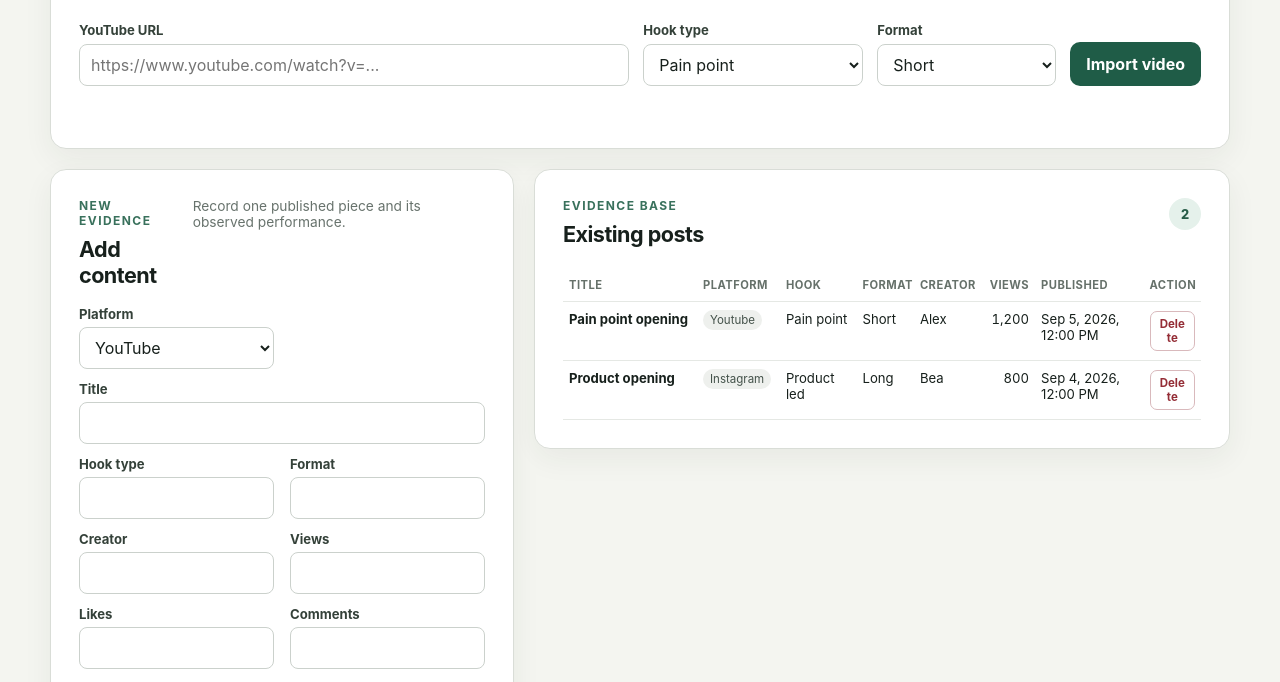
Test case: App › prevents duplicate deletion and refreshes the complete feedback loop
(page scrolled)
Click the button "Delete" in the row of "Pain point opening" at (1172, 331), box [1150,311,1195,351]
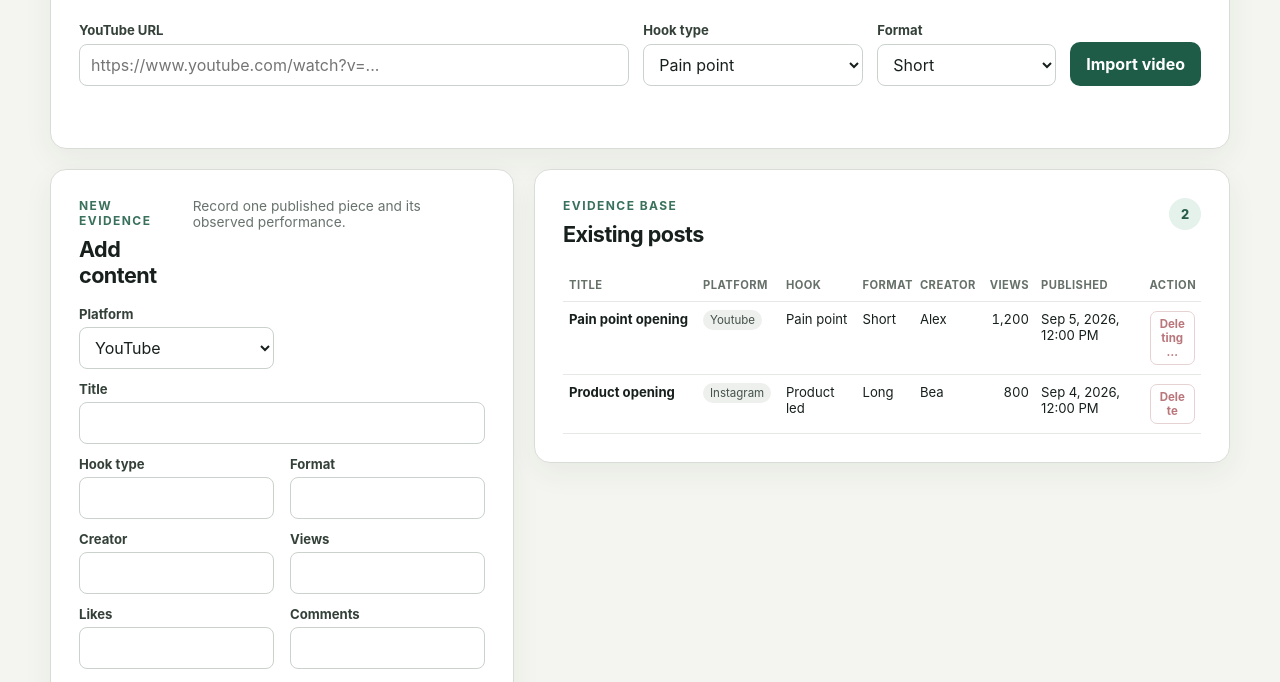
Check: the button "Deleting…" is disabled
Click the button "Deleting…" at (1172, 338), box [1150,311,1195,365]
(page scrolled)
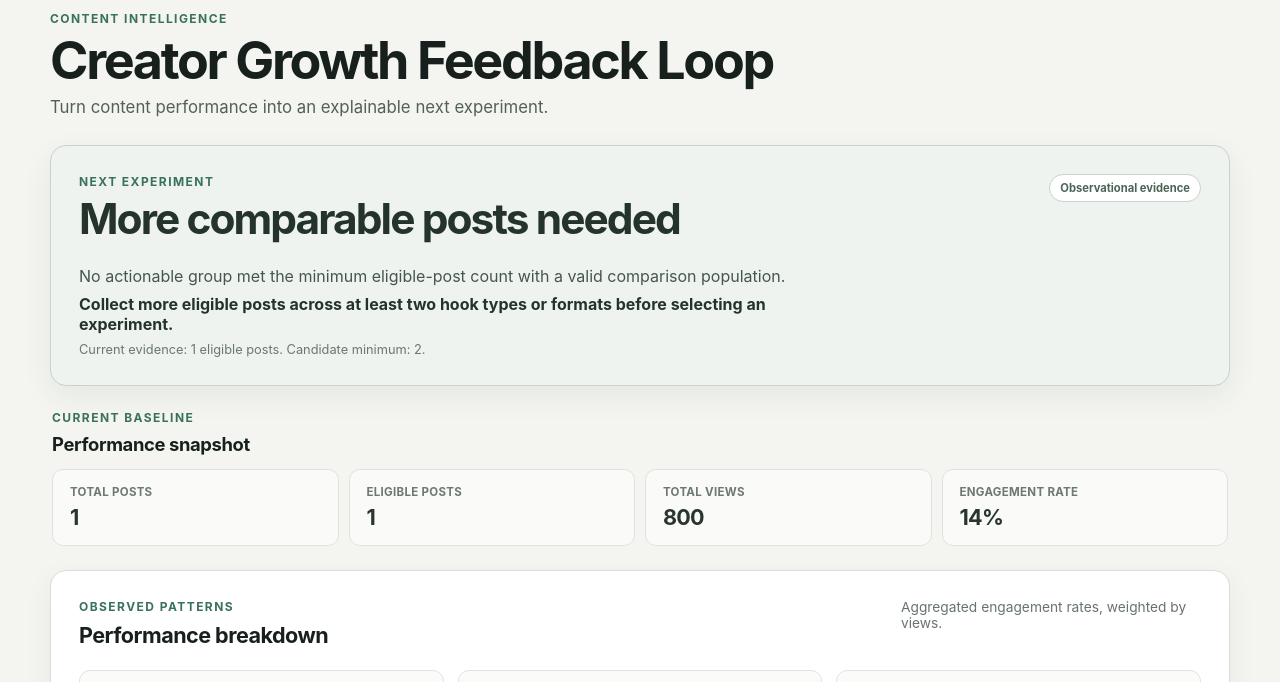
Check: the column heading "Pain point opening" is gone
Check: the heading "More comparable posts needed" is shown, box [79,197,680,242]
